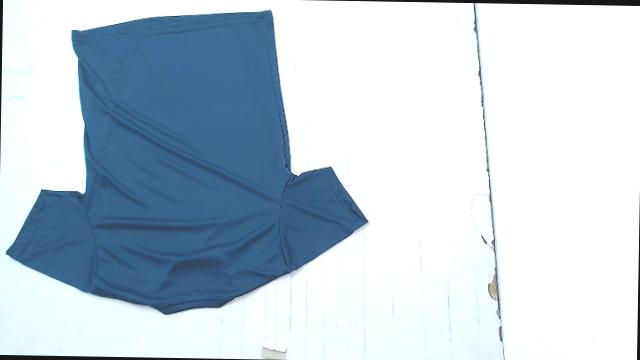new-garment: (6, 10, 367, 313)
